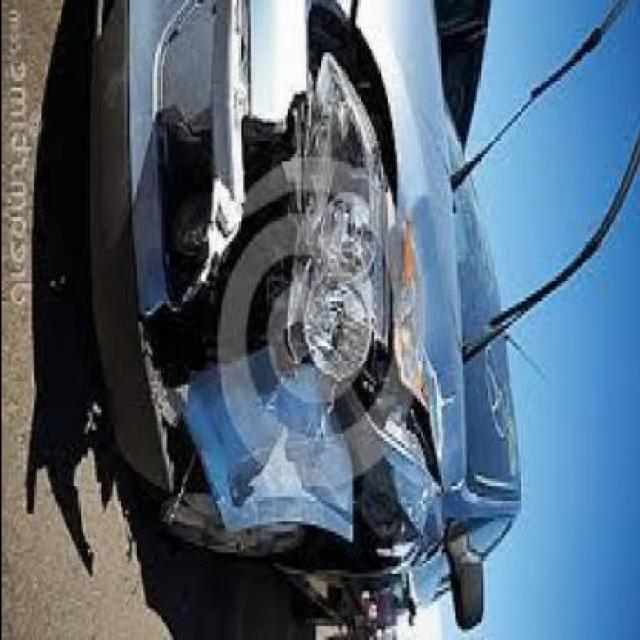damage: (84, 0, 457, 575)
